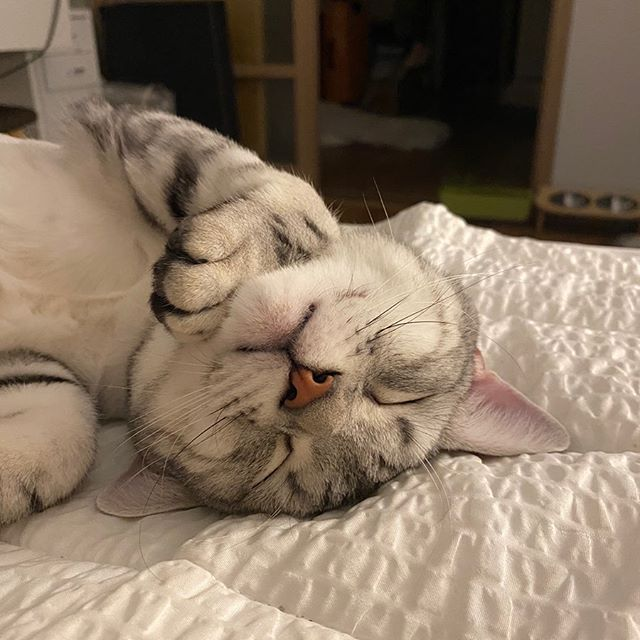cat: (98, 239, 574, 524)
